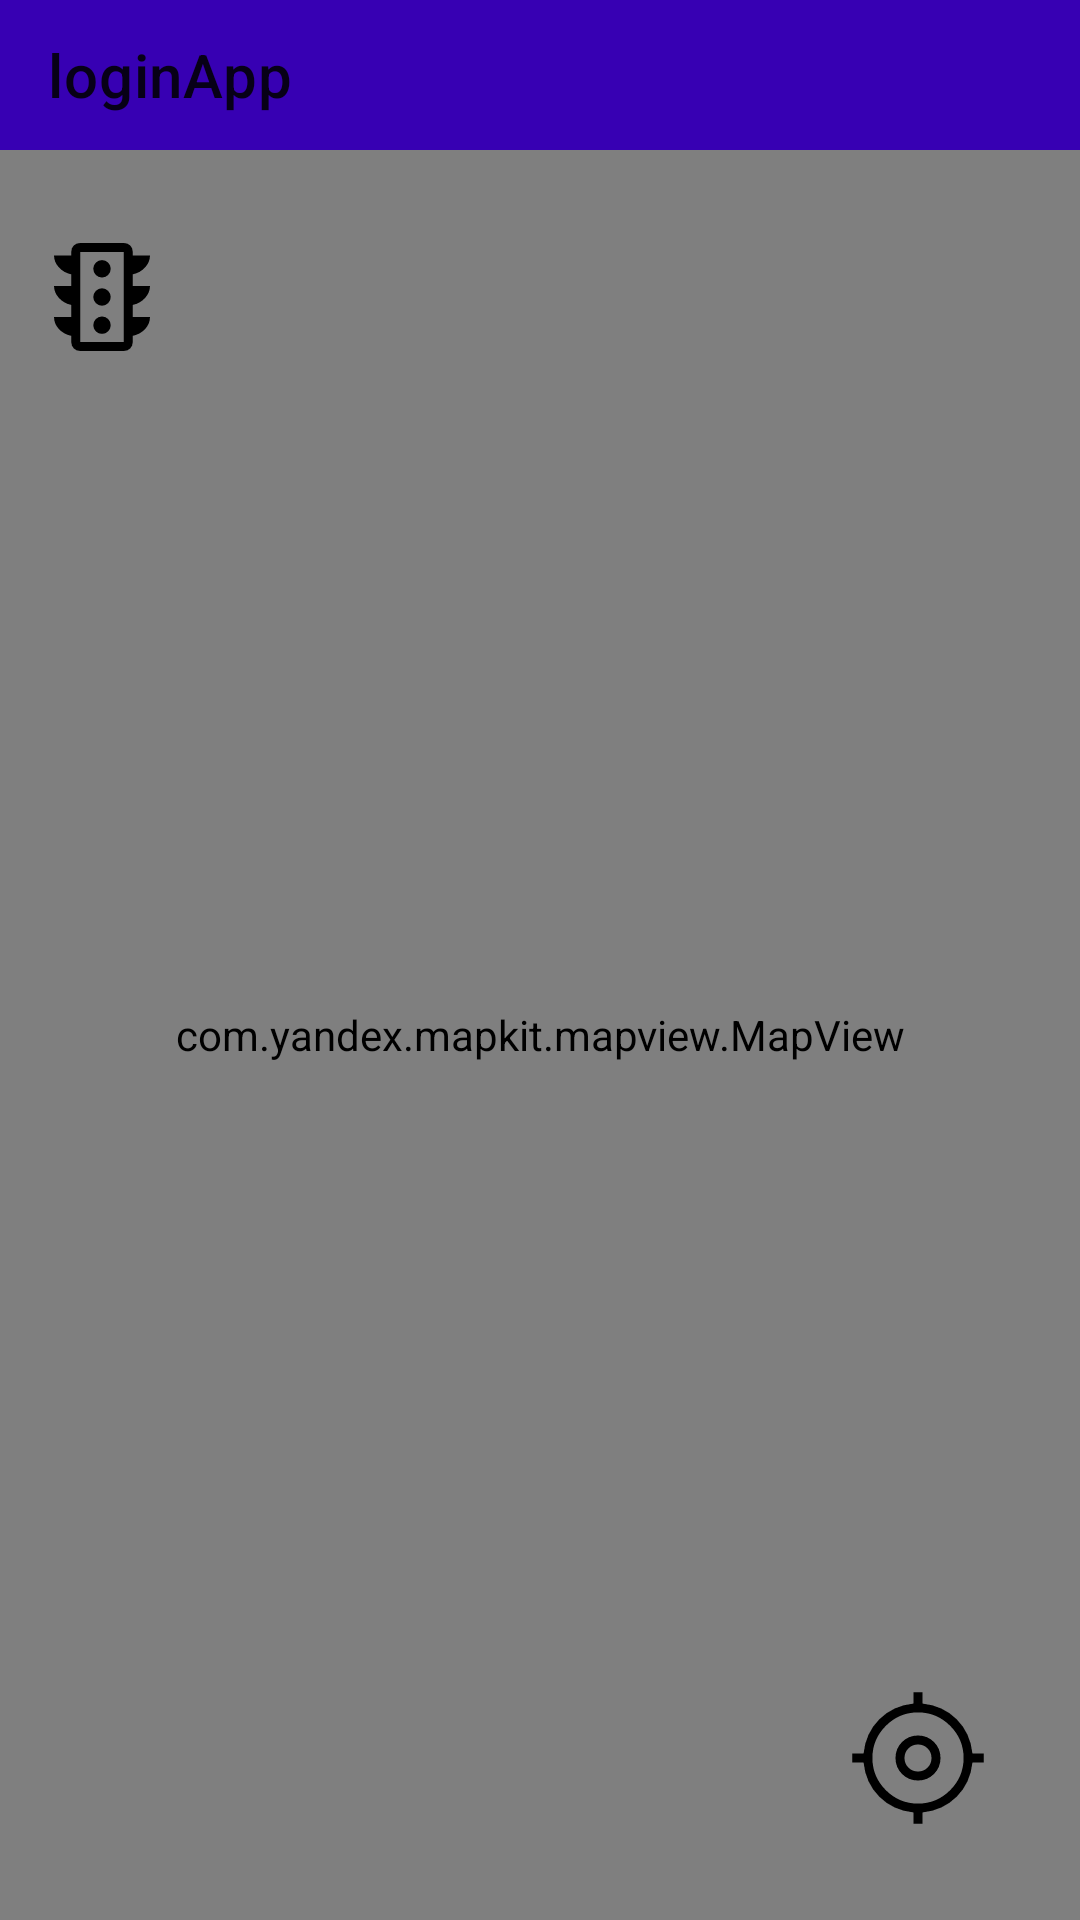

Icons on this 1080 × 1920 Android screen, each with the point to tap as (x,y):
location: (918,1758)
traffic: (102,297)
